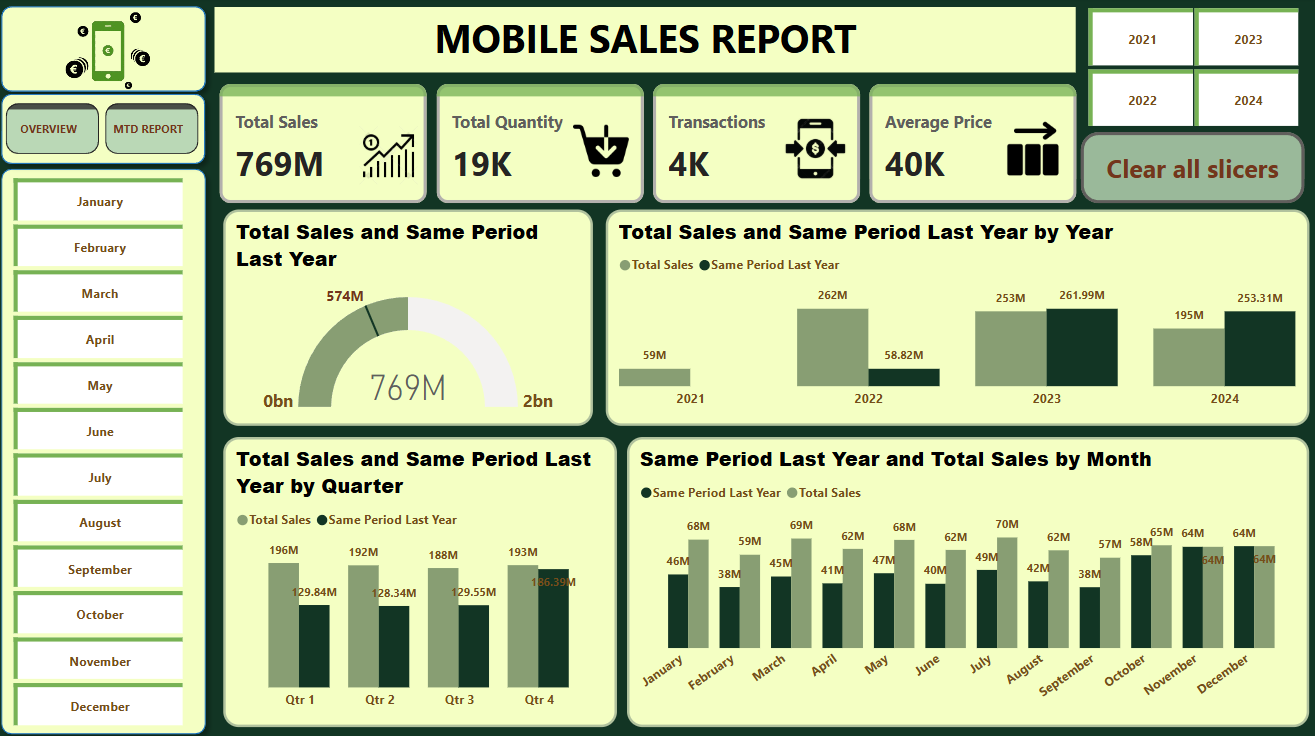

Layout of this report page (visuals, bound fields, positions):
{"tool":"powerbi","page":{"name":"SAME PERIOD LAST YEAR REPORT","canvas":[1280,720],"ordinal":2},"visuals":[{"type":"shape","box":[0,0,215.2,100.3],"z":0},{"type":"shape","box":[0,156.5,215.2,563.7],"z":1000},{"type":"shape","box":[0,84.5,214.7,85.7],"z":2000},{"type":"image","box":[13.3,9.7,196.6,84.5],"z":3000},{"type":"textbox","box":[215.2,9.8,831.5,63.6],"z":4000},{"type":"slicer","fields":{"Values":["Custom_Calender.Date.Variation.Date Hierarchy.Month"]},"box":[0,170.1,202.7,534.5],"z":5000},{"type":"cardVisual","fields":{"Data":["Measure.Total Sales","Measure.Total Quantity","Measure.Transactions","Measure.Average Price"]},"box":[214.7,59.1,840.9,165.3],"z":6000},{"type":"slicer","fields":{"Values":["Custom_Calender.Date.Variation.Date Hierarchy.Year"]},"box":[1037.5,6,242.5,120.6],"z":7000},{"type":"clusteredColumnChart","fields":{"Category":["Custom_Calender.Date.Variation.Date Hierarchy.Year","Custom_Calender.Date.Variation.Date Hierarchy.Quarter"],"Y":["Measure.Total Sales","Measure.Same Period Last Year"]},"box":[592.4,205.1,679.2,208.7],"z":8000},{"type":"clusteredColumnChart","fields":{"Category":["Custom_Calender.Date.Variation.Date Hierarchy.Quarter"],"Y":["Measure.Total Sales","Measure.Same Period Last Year"]},"box":[223.2,424.7,380,279.9],"z":9000},{"type":"clusteredColumnChart","fields":{"Y":["Measure.Same Period Last Year","Measure.Total Sales"],"Category":["Custom_Calender.Date.Variation.Date Hierarchy.Month"]},"box":[612.9,424.7,658.7,279.9],"z":10000},{"type":"gauge","fields":{"TargetValue":["Measure.Same Period Last Year"],"Y":["Measure.Total Sales"]},"box":[223.2,205.1,357.1,208.7],"z":11000},{"type":"pageNavigator","box":[13.3,102.5,187,49.5],"z":12000},{"type":"actionButton","box":[1050.8,130.3,216,68.8],"z":13000}]}

Visuals, with their boxes in screenshot pixels (x1, y1, x2, y2), scaled from the page's 1280x720 canvas onto the 1315x736 screenshot:
shape: [left=0, top=0, right=221, bottom=103]
shape: [left=0, top=160, right=221, bottom=735]
shape: [left=0, top=86, right=221, bottom=174]
image: [left=14, top=10, right=216, bottom=96]
textbox: [left=221, top=10, right=1075, bottom=75]
slicer - Custom_Calender.Date.Variation.Date Hierarchy.Month: [left=0, top=174, right=208, bottom=720]
cardVisual - Measure.Total Sales x Measure.Total Quantity: [left=221, top=60, right=1084, bottom=229]
slicer - Custom_Calender.Date.Variation.Date Hierarchy.Year: [left=1066, top=6, right=1314, bottom=129]
clusteredColumnChart - Custom_Calender.Date.Variation.Date Hierarchy.Year x Custom_Calender.Date.Variation.Date Hierarchy.Quarter: [left=609, top=210, right=1306, bottom=423]
clusteredColumnChart - Custom_Calender.Date.Variation.Date Hierarchy.Quarter x Measure.Total Sales: [left=229, top=434, right=620, bottom=720]
clusteredColumnChart - Measure.Same Period Last Year x Measure.Total Sales: [left=630, top=434, right=1306, bottom=720]
gauge - Measure.Same Period Last Year x Measure.Total Sales: [left=229, top=210, right=596, bottom=423]
pageNavigator: [left=14, top=105, right=206, bottom=155]
actionButton: [left=1080, top=133, right=1301, bottom=204]
